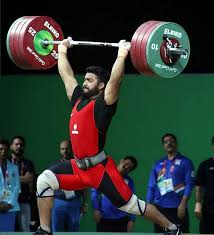Indian_Male: (82, 64, 103, 94)
